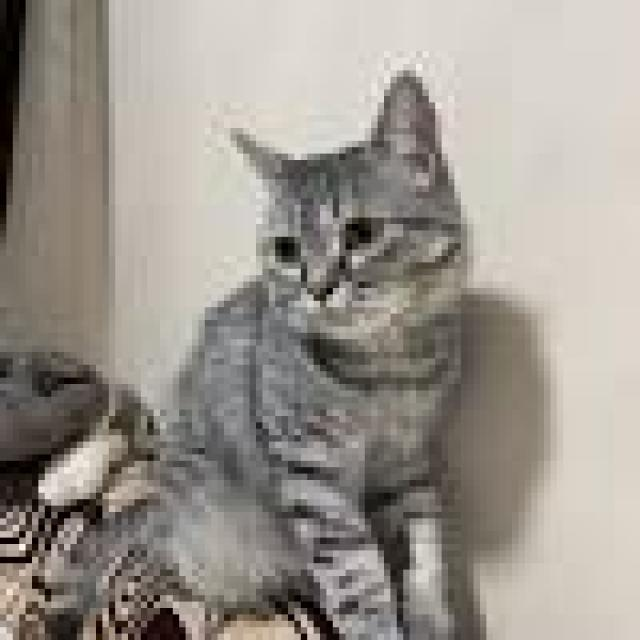cat-face: (161, 61, 549, 388)
